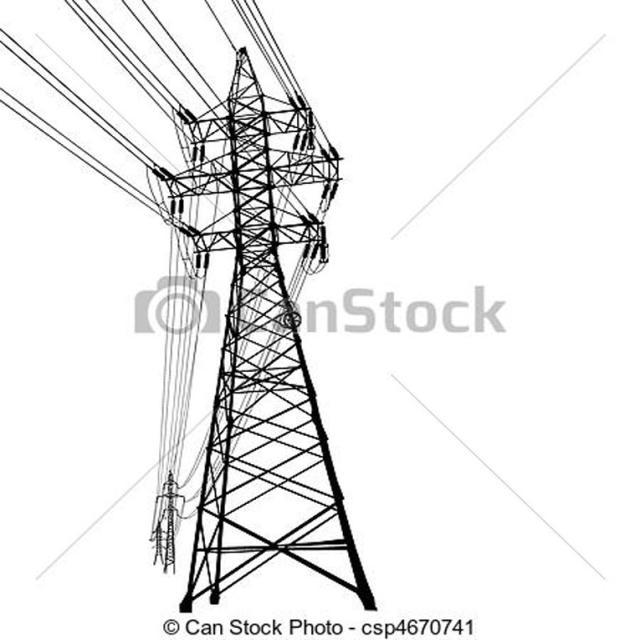non-critical vegetation: (138, 37, 388, 613)
